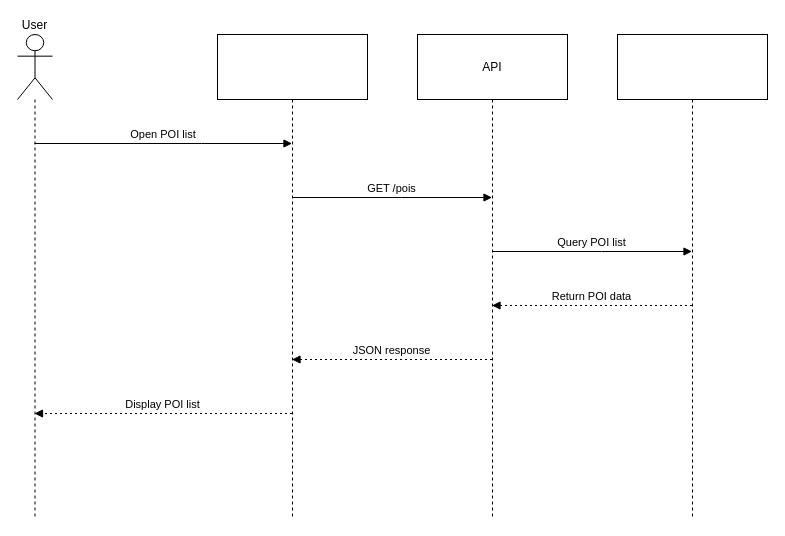
Some shapes in this 785 by 536 pixel diagram are drawn without their labels. Here are the shapes that lost their labels. From the top down, the box of each, then its label:
(216, 34, 368, 518): UI
(616, 34, 768, 518): DB
